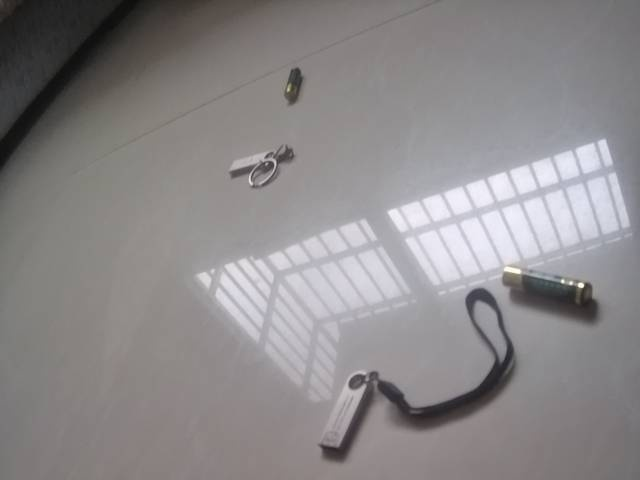U-disk: (313, 359, 505, 458), (227, 145, 303, 186)
battery: (500, 262, 595, 315), (278, 65, 310, 102)
